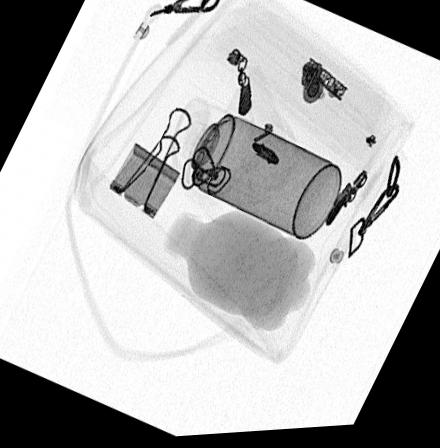Sprayer: (165, 95, 345, 246)
